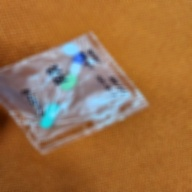러키펜정: (63, 43, 80, 56)
씨엠지세파클러캡슐: (68, 53, 88, 76)
에르도캡슐: (40, 102, 61, 129)
휴티렌정: (62, 73, 77, 91)
